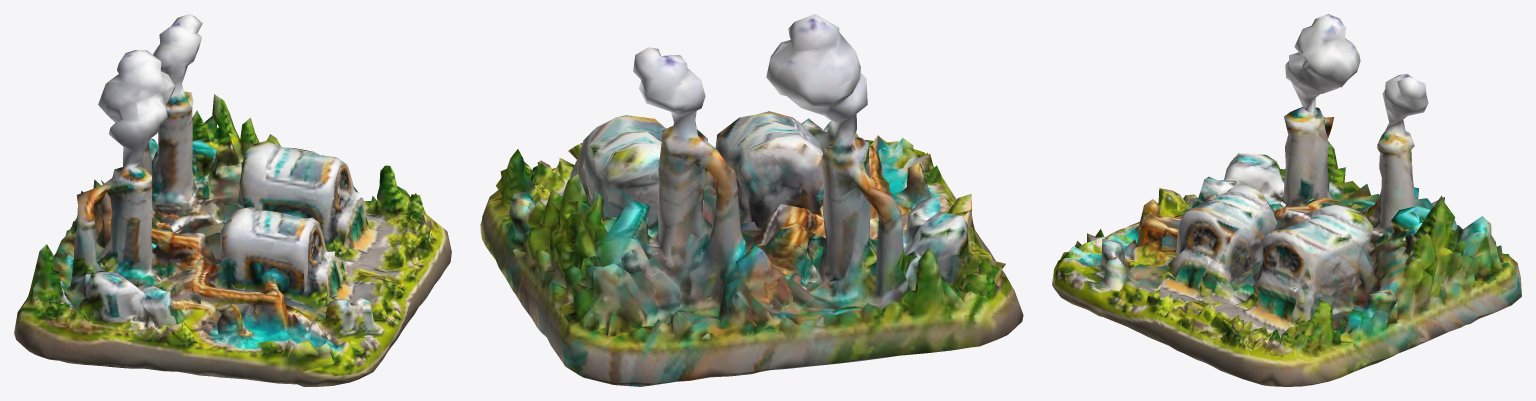
The model's file is geothermal_power_plant.glb.
The picture shows the model from 3 angles, left to right: view 1: azimuth 30°, elevation 25°; view 2: azimuth 150°, elevation 25°; view 3: azimuth 270°, elevation 25°; orthographic projection. The views are drawn at different scales.
Parts seen in each view (by area): view 1: geothermal_power_plant; view 2: geothermal_power_plant; view 3: geothermal_power_plant.
Boxes of the visible parts, x1,y1,x2,y2 form: geothermal_power_plant: [14, 14, 451, 386]; geothermal_power_plant: [480, 14, 1023, 386]; geothermal_power_plant: [1052, 14, 1521, 386].
Size of the model in its own units: 1.97 by 1.11 by 1.96.
Materials: 1 (1 with a texture image).
